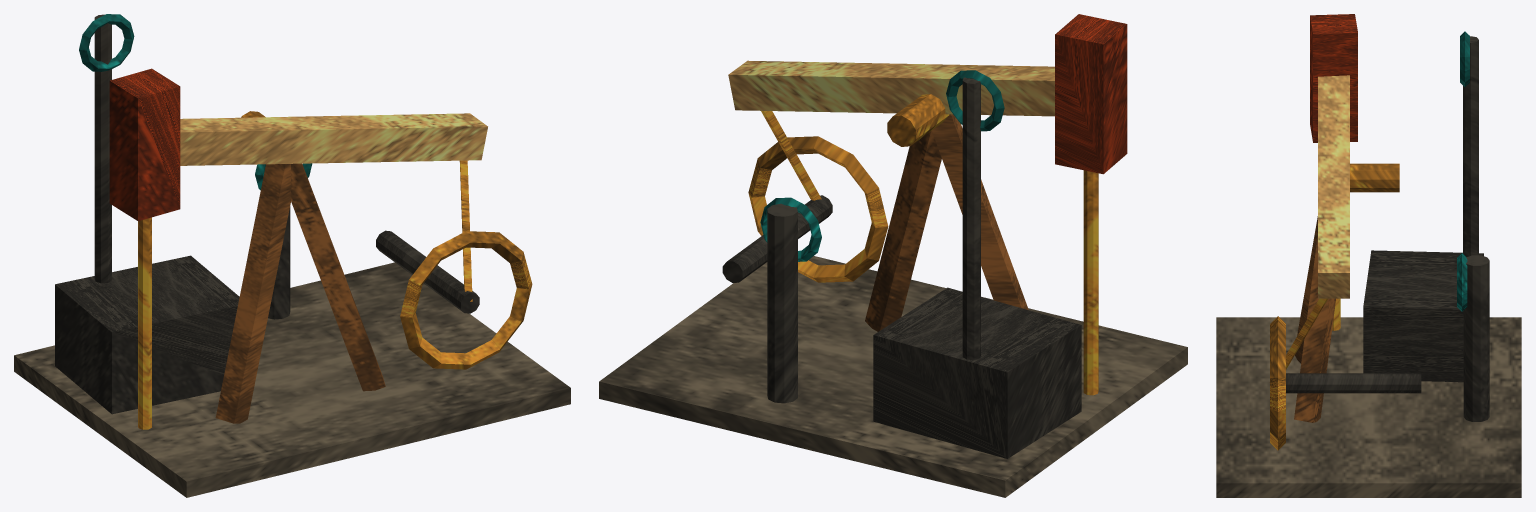
The model's file is derrick-02.glb.
3 renders of one model, left to right at view 1: azimuth 30°, elevation 25°; view 2: azimuth 150°, elevation 25°; view 3: azimuth 270°, elevation 25°, orthographic. The views are drawn at different scales.
Parts seen in each view (by area): view 1: derrick-02; view 2: derrick-02; view 3: derrick-02.
Part boxes in pixels (left/top/right/bottom): derrick-02: left=14, top=14, right=570, bottom=497; derrick-02: left=599, top=14, right=1187, bottom=497; derrick-02: left=1216, top=14, right=1521, bottom=497.
Size of the model in its own units: 5.4 by 4.92 by 4.2.
Materials: 1 (1 with a texture image).
